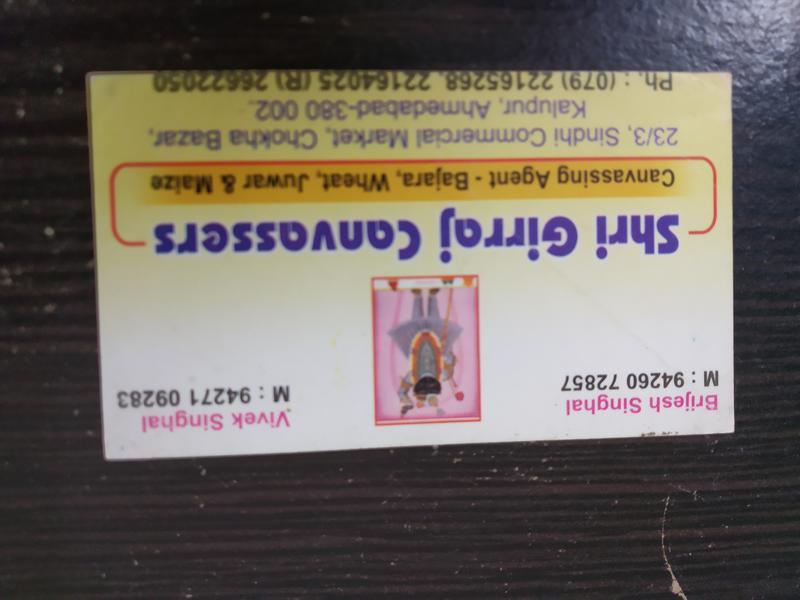card: (87, 71, 738, 463)
